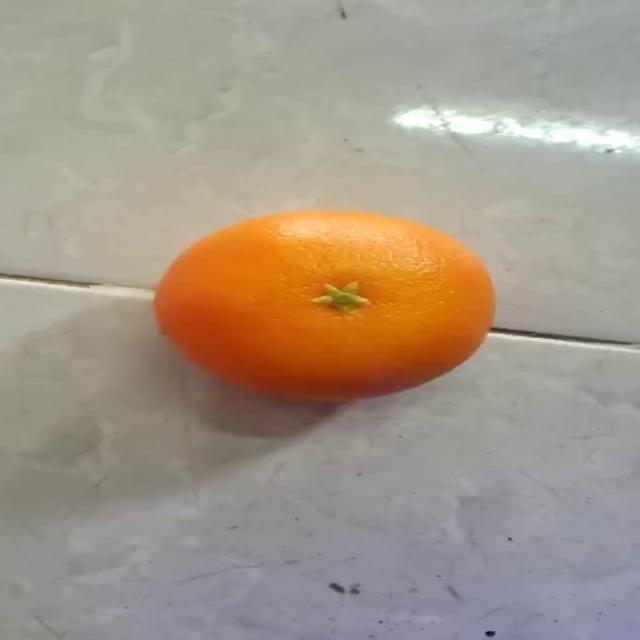Orange: (152, 207, 496, 403)
